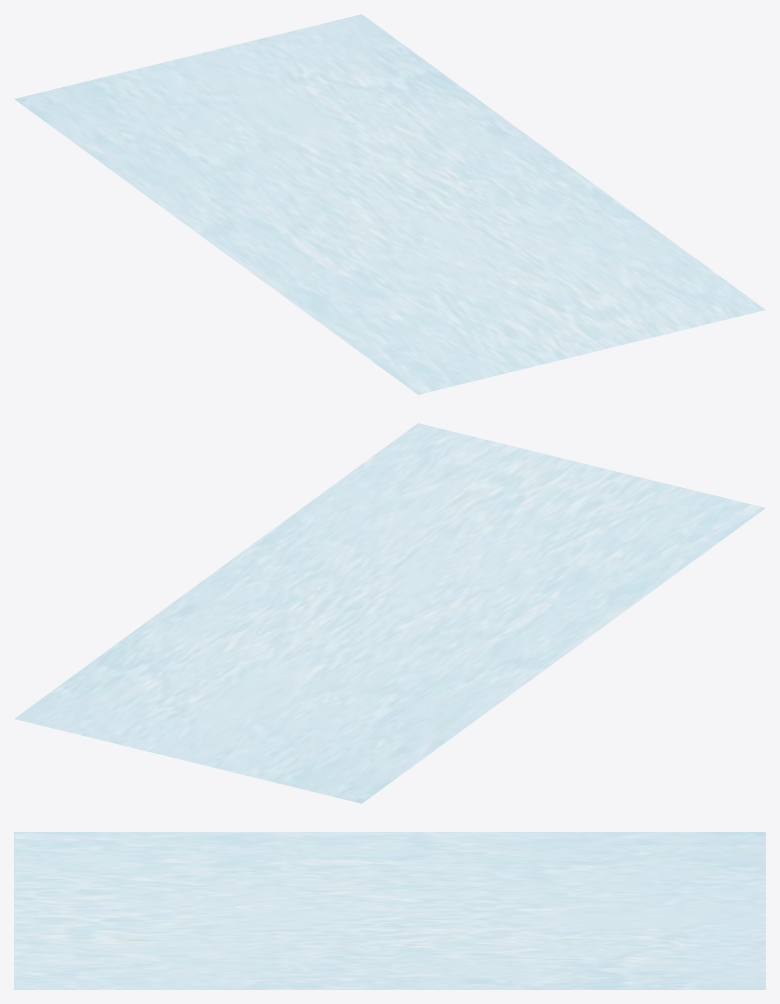
Rendered from agua.obj.
3 views of the same model, one above another, from view 1: azimuth 30°, elevation 25°; view 2: azimuth 150°, elevation 25°; view 3: azimuth 270°, elevation 25° (orthographic). The views are drawn at different scales.
Visible parts, largest first — view 1: Agua; view 2: Agua; view 3: Agua.
Boxes of the visible parts, x1,y1,x2,y2 form: Agua: (15,14,764,394); Agua: (15,423,764,803); Agua: (14,832,765,989).
Size of the model in its own units: 1.39 by 0 by 2.8.
1 material, 1 textured.
